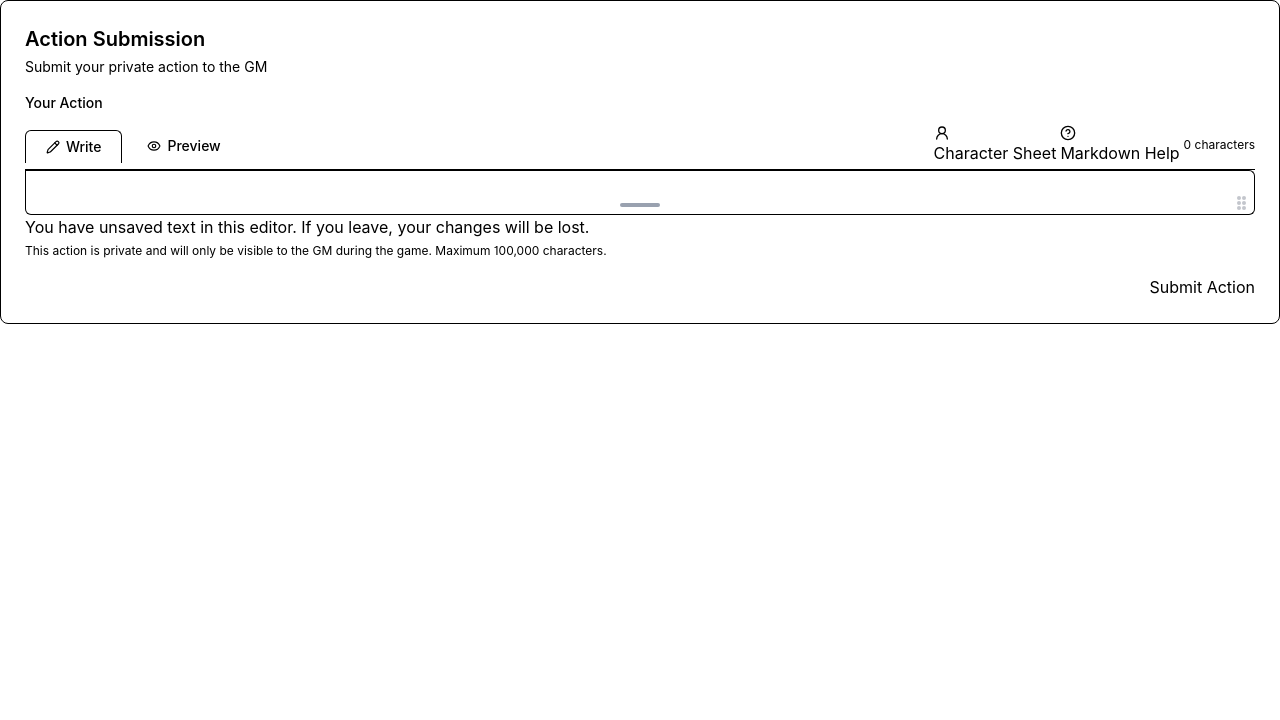
Test: ActionSubmission sheet drawer › opens drawer when Sheet button is clicked
Click the button with test id "sheet-toggle-button" at (995, 145), box [934,125,1056,165]
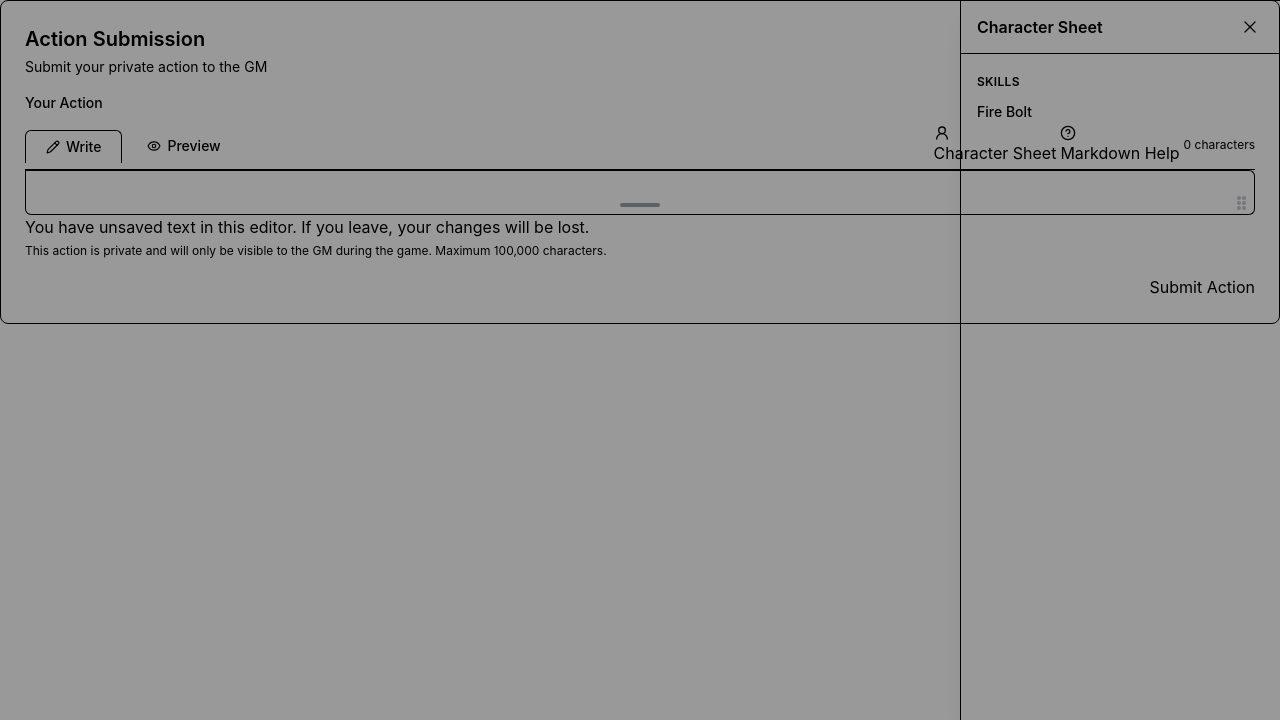
Expected: the text "Fire Bolt" is shown, [977,102,1032,122]
